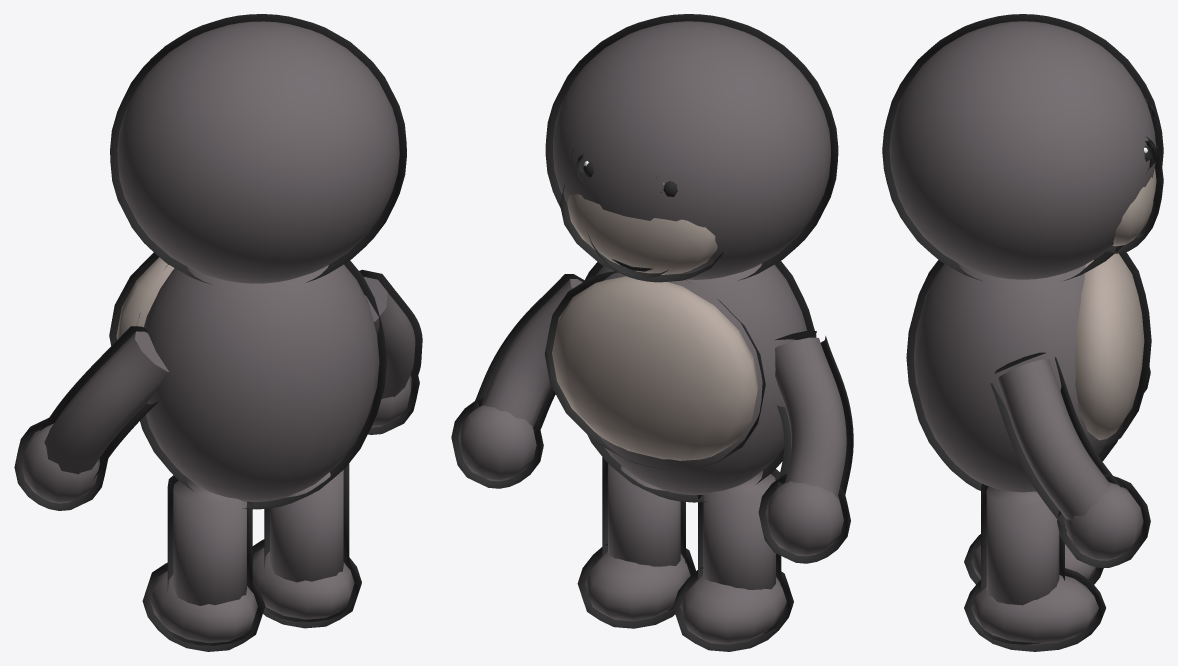
File: vf_gorilla.glb
3 renders of one model, left to right at view 1: azimuth 30°, elevation 25°; view 2: azimuth 150°, elevation 25°; view 3: azimuth 270°, elevation 25°, orthographic. The views are drawn at different scales.
Parts seen in each view (by area): view 1: gorilla; view 2: gorilla; view 3: gorilla.
Part boxes in pixels (x1=…): gorilla: x1=14, y1=14, x2=422, y2=651; gorilla: x1=451, y1=14, x2=853, y2=651; gorilla: x1=882, y1=14, x2=1163, y2=651.
Size of the model in its own units: 1.09 by 1.62 by 0.696.
